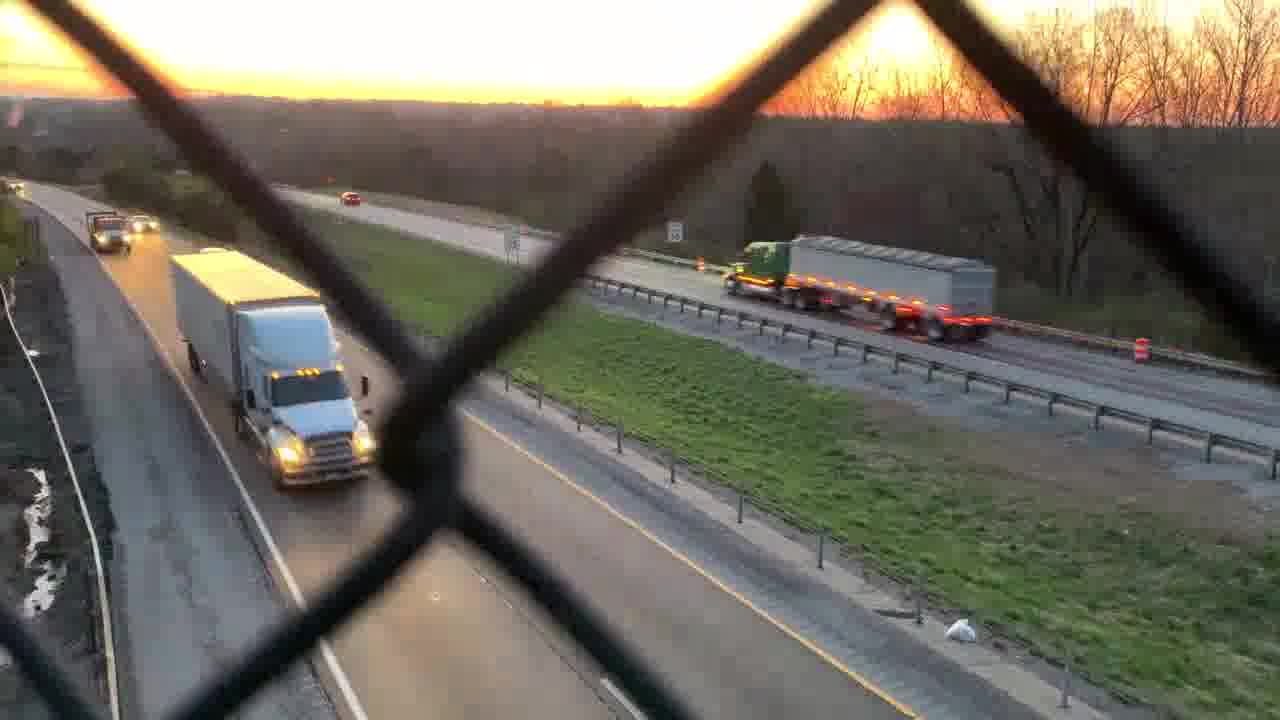heavyTruck: (167, 250, 370, 500), (723, 235, 1008, 346), (80, 208, 130, 257)
smallCar: (127, 211, 158, 234)
vehicle: (335, 189, 362, 209), (8, 175, 27, 188)
